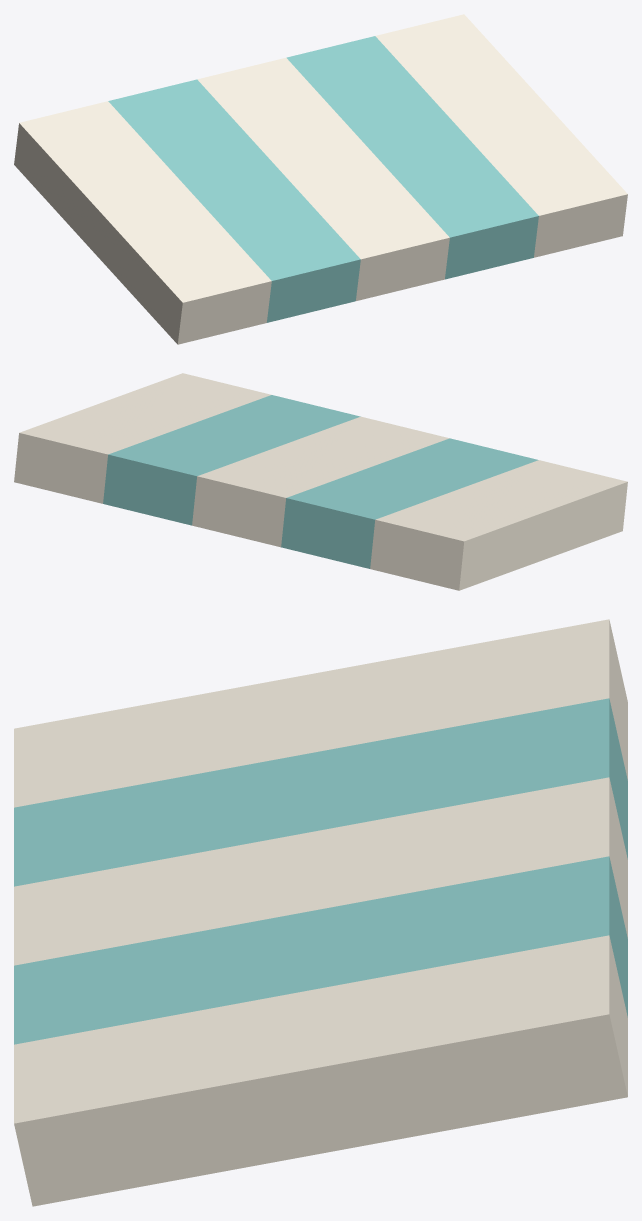
File: awning.glb
3 views of the same model, one above another, from view 1: azimuth 30°, elevation 25°; view 2: azimuth 150°, elevation 25°; view 3: azimuth 270°, elevation 25° (orthographic). The views are drawn at different scales.
Visible parts, largest first — view 1: stripe0, stripe1, stripe4, stripe3, stripe2; view 2: stripe0, stripe4, stripe1, stripe2, stripe3; view 3: stripe4, stripe0, stripe1, stripe2, stripe3.
Part boxes in pixels (bbox=[...]): stripe0: bbox=[14, 101, 271, 344]; stripe1: bbox=[108, 79, 360, 322]; stripe4: bbox=[375, 14, 627, 257]; stripe3: bbox=[286, 36, 538, 279]; stripe2: bbox=[197, 58, 449, 300]; stripe0: bbox=[370, 460, 627, 590]; stripe4: bbox=[14, 373, 271, 503]; stripe1: bbox=[281, 438, 538, 568]; stripe2: bbox=[192, 416, 449, 547]; stripe3: bbox=[103, 395, 360, 525]; stripe4: bbox=[14, 935, 627, 1206]; stripe0: bbox=[14, 619, 627, 807]; stripe1: bbox=[14, 698, 627, 886]; stripe2: bbox=[14, 777, 627, 965]; stripe3: bbox=[14, 856, 627, 1044].
Size of the model in its own units: 1 by 0.2271 by 0.6569.
